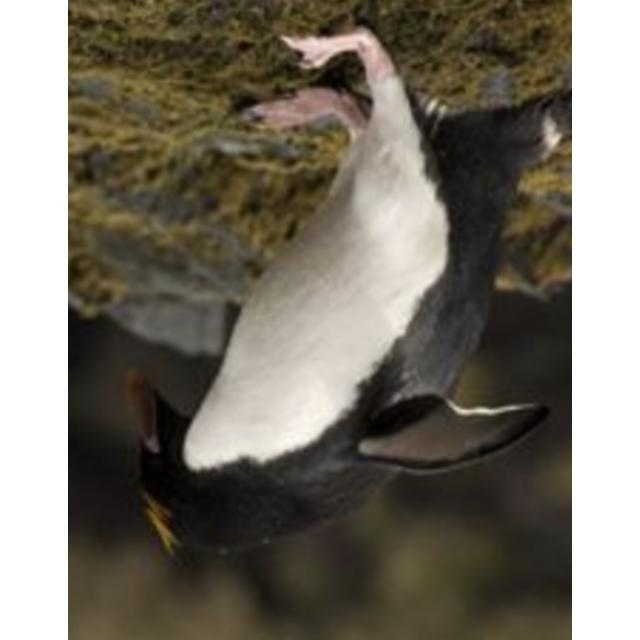penguin: (124, 25, 567, 567)
